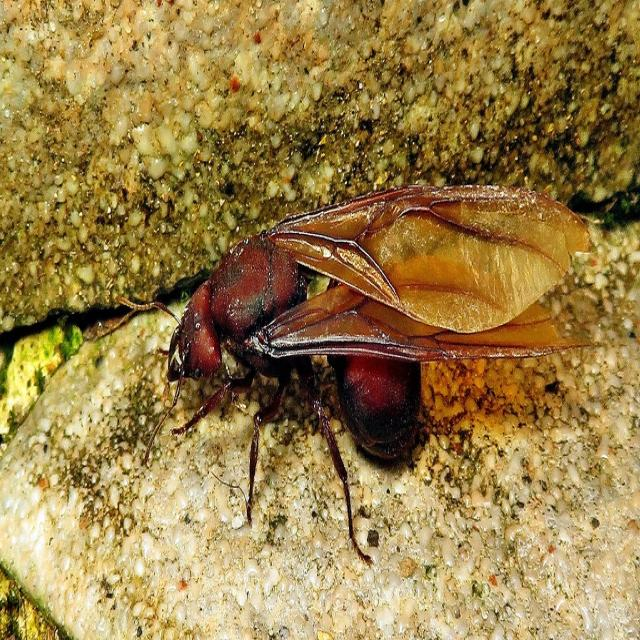Alive-Female-Alate: (117, 182, 609, 570)
